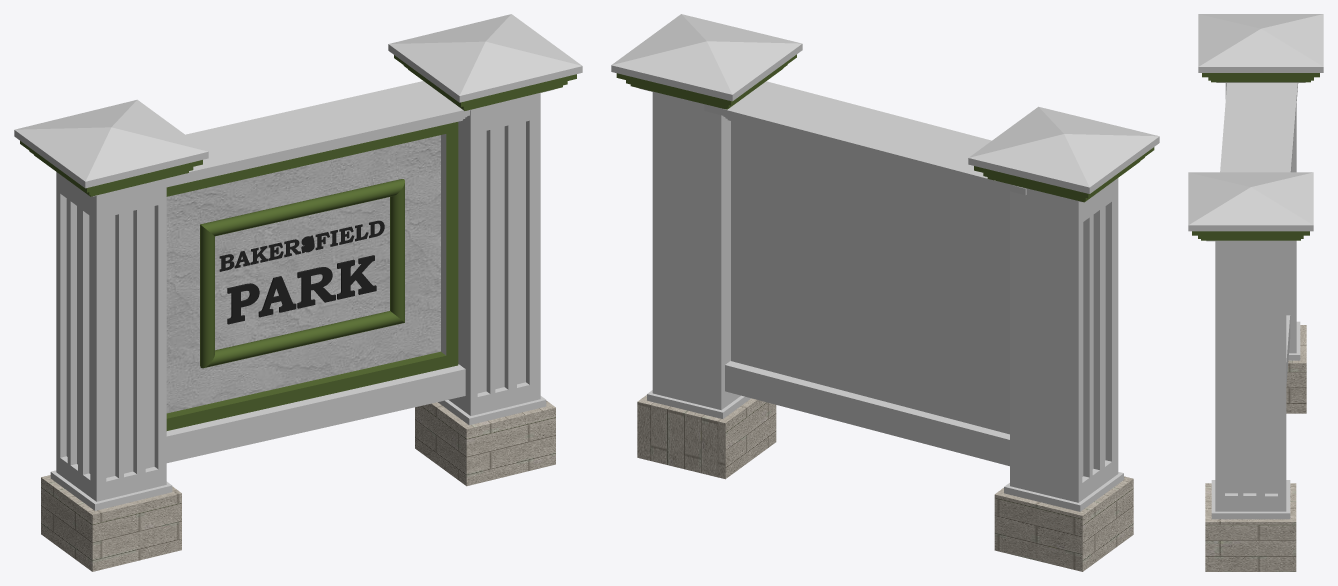
File: BakersfieldParkSign.fbx
3 renders of one model, left to right at view 1: azimuth 30°, elevation 25°; view 2: azimuth 150°, elevation 25°; view 3: azimuth 270°, elevation 25°, orthographic. The views are drawn at different scales.
Parts seen in each view (by area): view 1: Model, PARK1, BAKERSFIELD1; view 2: Model; view 3: Model.
Part boxes in pixels (box(x1,y1,x2,y2)): Model: box(14, 14, 582, 571); PARK1: box(227, 255, 376, 324); BAKERSFIELD1: box(219, 220, 384, 271); Model: box(611, 14, 1159, 571); Model: box(1188, 14, 1323, 571).
Size of the model in its own units: 57.67 by 46.5 by 15.62.
